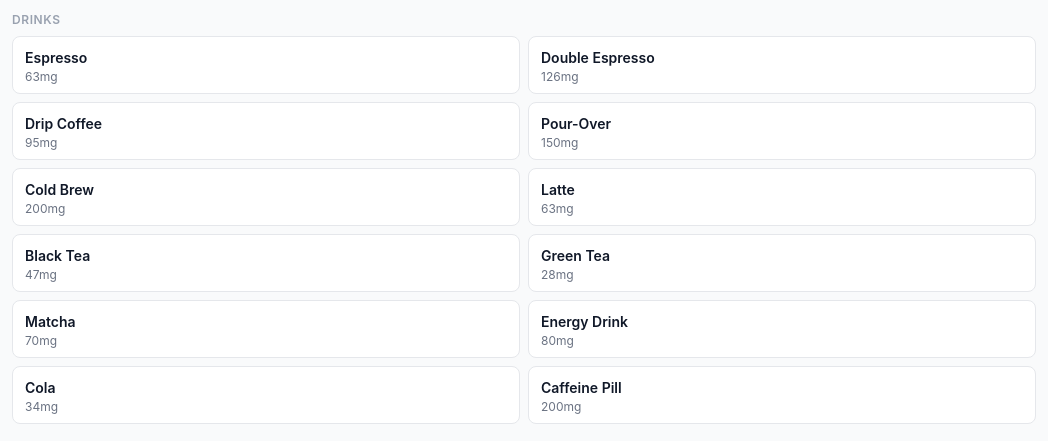
Test: DrinkPresets › two taps required: first selects, second confirms and logs
This screenshot has width=1048, height=441.
# First tap: select (no drink logged yet)
Click the text "Espresso" at {"x": 56, "y": 58}, box [25,49,87,66]
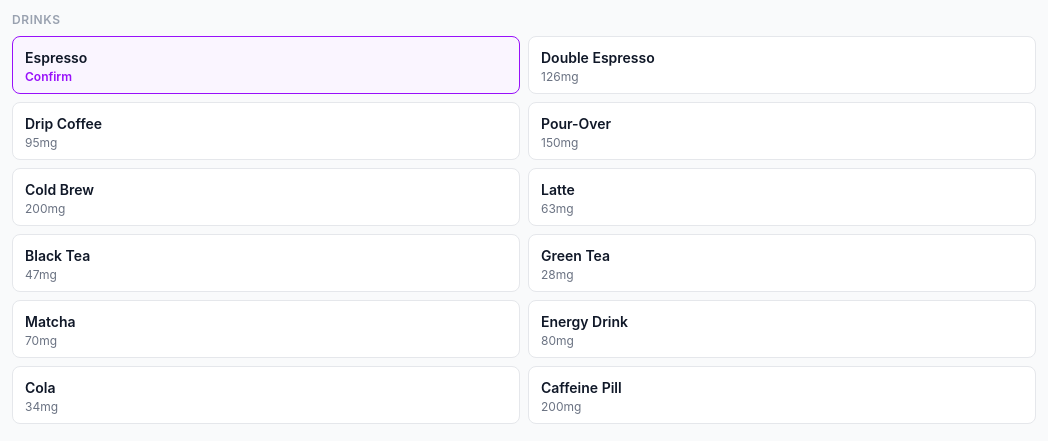
Result: the text "Confirm" is shown at [25,69,72,84]
# Second tap: confirm and log
Click the text "Espresso" at {"x": 56, "y": 58}, box [25,49,87,66]
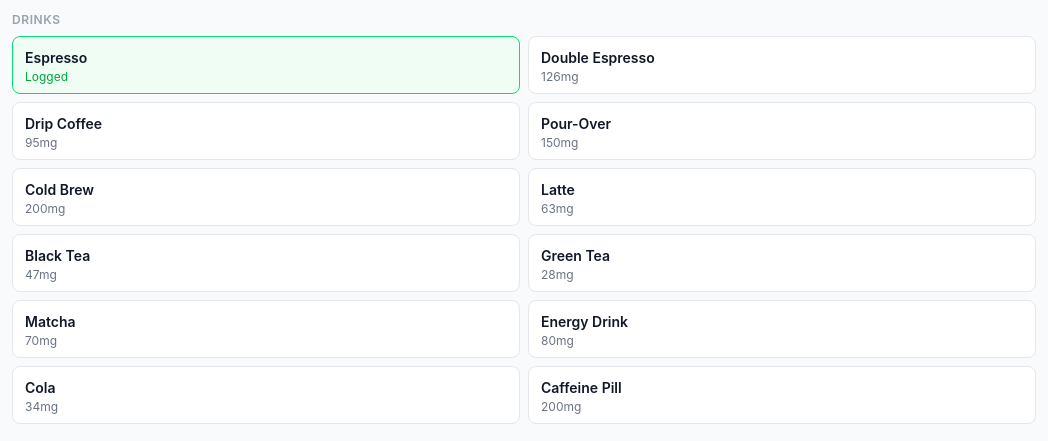
Result: the text "Logged" is shown at [25,69,68,84]
